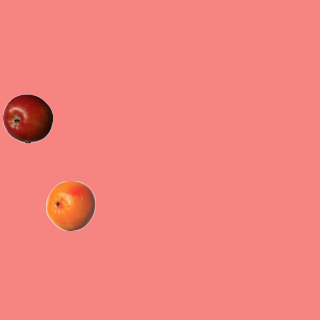Apple Braeburn: (2, 93, 52, 143)
Grapefruit Pink: (45, 180, 95, 230)
